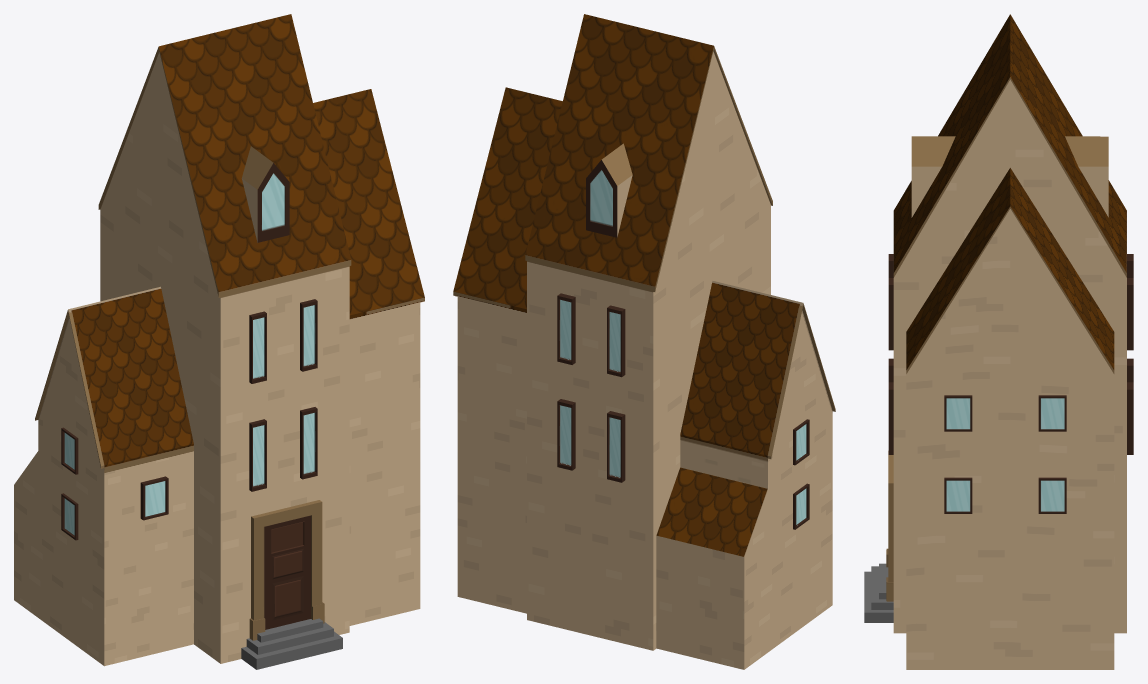
The model's file is french_tallhouse_02.fbx.
The picture shows the model from 3 angles, left to right: view 1: azimuth 30°, elevation 25°; view 2: azimuth 150°, elevation 25°; view 3: azimuth 270°, elevation 25°; orthographic projection. The views are drawn at different scales.
Parts seen in each view (by area): view 1: tallhouse_02; view 2: tallhouse_02; view 3: tallhouse_02.
Boxes of the visible parts, box(x1,y1,x2,y2) form: tallhouse_02: box(14, 14, 424, 669); tallhouse_02: box(453, 14, 835, 669); tallhouse_02: box(864, 14, 1133, 669).
Bounding box in the file's own units: 6.94 × 12.54 × 5.5.
